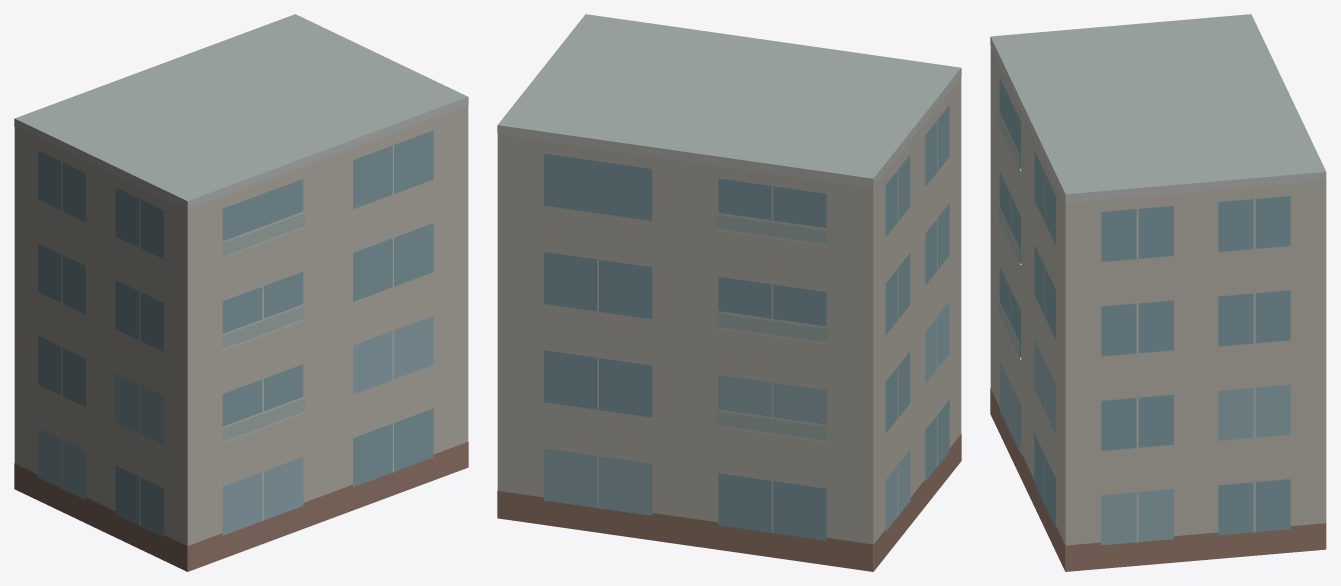
The model's file is survey-upis-32599155.glb.
The picture shows the model from 3 angles, left to right: view 1: azimuth 30°, elevation 25°; view 2: azimuth 150°, elevation 25°; view 3: azimuth 270°, elevation 25°; orthographic projection. The views are drawn at different scales.
Visible parts, largest first — view 1: survey-upis-32599155.tmp; view 2: survey-upis-32599155.tmp; view 3: survey-upis-32599155.tmp.
Boxes of the visible parts, <box> form: survey-upis-32599155.tmp: <box>14,14,468,571</box>; survey-upis-32599155.tmp: <box>497,14,961,571</box>; survey-upis-32599155.tmp: <box>990,14,1326,571</box>.
Bounding box in the file's own units: 10.86 × 10.6 × 8.56.
